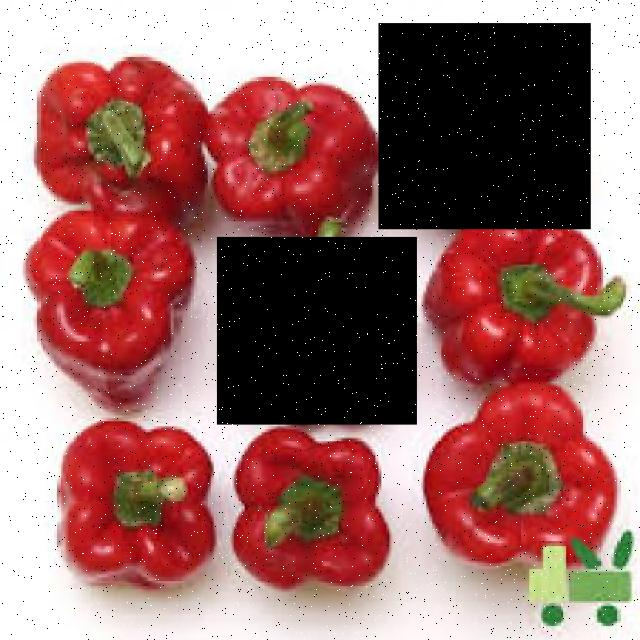Capsicum: (379, 23, 590, 229), (217, 238, 417, 425)
